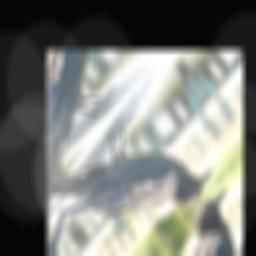Crow: (47, 76, 219, 256)
